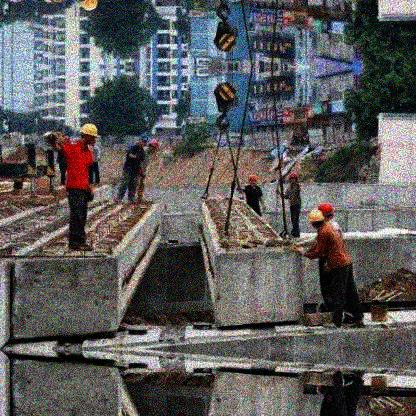helmet: (80, 124, 98, 150), (306, 208, 324, 229), (318, 204, 335, 223), (136, 132, 148, 150), (146, 139, 158, 154), (248, 174, 258, 187), (289, 172, 297, 185)
